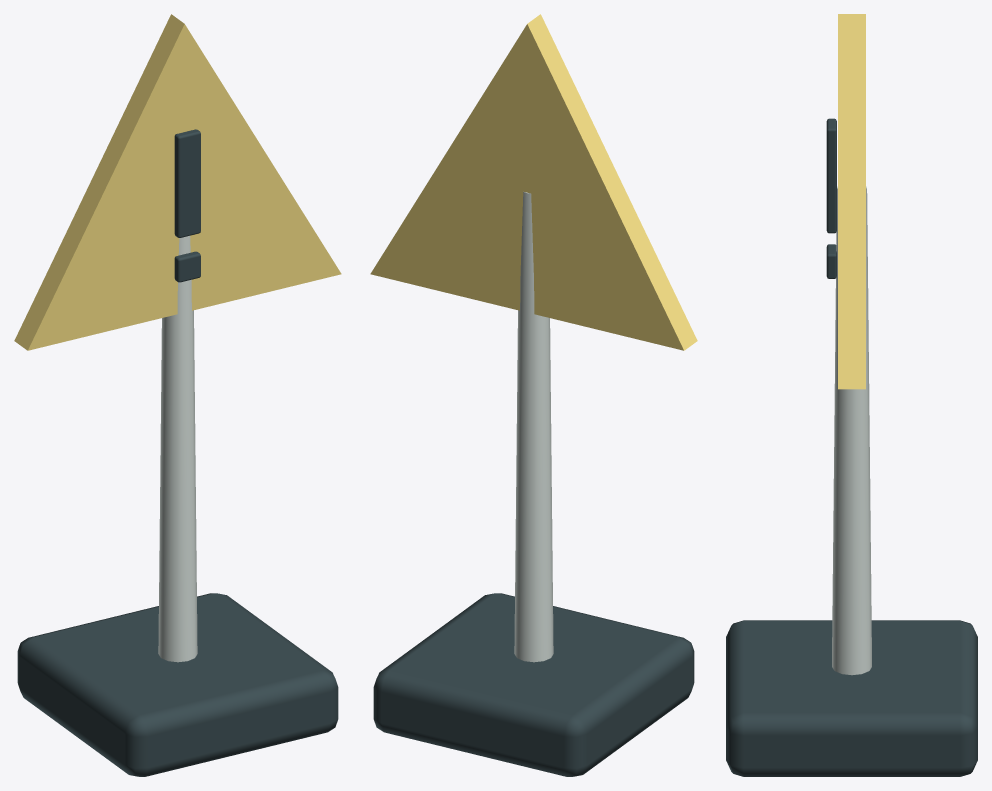
File: diving-and-underwater-salvage-wreck-warning-marker-12a75f93__28462.glb
The picture shows the model from 3 angles, left to right: view 1: azimuth 30°, elevation 25°; view 2: azimuth 150°, elevation 25°; view 3: azimuth 270°, elevation 25°; orthographic projection. The views are drawn at different scales.
Parts seen in each view (by area): view 1: wreck-warning-marker-yellow, wreck-warning-marker-dark, wreck-warning-marker-pale; view 2: wreck-warning-marker-yellow, wreck-warning-marker-dark, wreck-warning-marker-pale; view 3: wreck-warning-marker-dark, wreck-warning-marker-pale, wreck-warning-marker-yellow.
Boxes of the visible parts, bbox=[...] form: wreck-warning-marker-yellow: bbox=[14, 14, 341, 350]; wreck-warning-marker-dark: bbox=[17, 129, 338, 776]; wreck-warning-marker-pale: bbox=[158, 235, 197, 662]; wreck-warning-marker-yellow: bbox=[370, 14, 697, 350]; wreck-warning-marker-dark: bbox=[373, 593, 694, 776]; wreck-warning-marker-pale: bbox=[514, 191, 553, 662]; wreck-warning-marker-dark: bbox=[726, 118, 977, 776]; wreck-warning-marker-pale: bbox=[832, 186, 871, 675]; wreck-warning-marker-yellow: bbox=[838, 14, 865, 389].
Size of the model in its own units: 0.74 by 1.57 by 0.4999.
